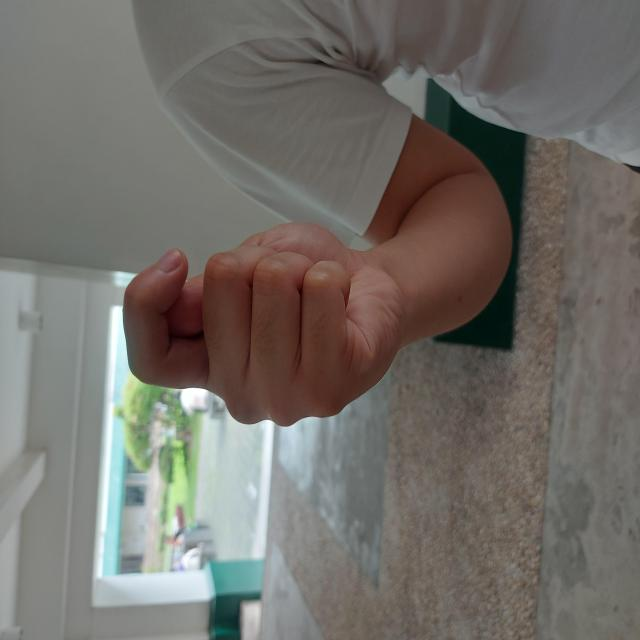T: (212, 120, 423, 402)
